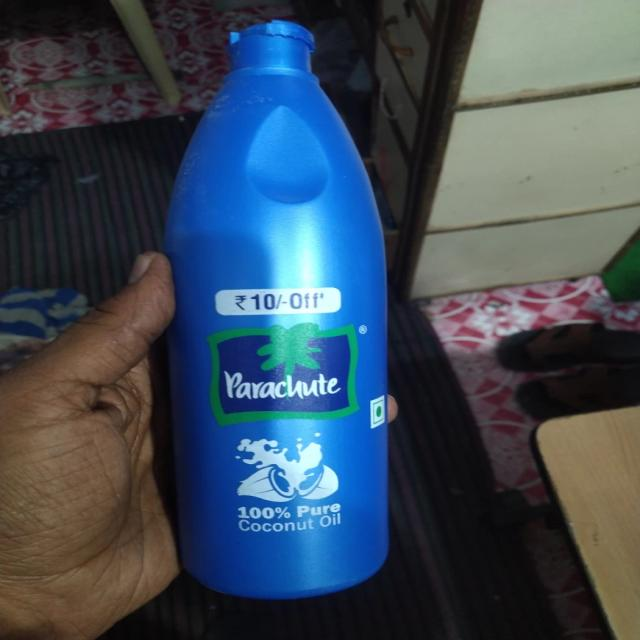parachute_oil: (155, 16, 400, 604)
